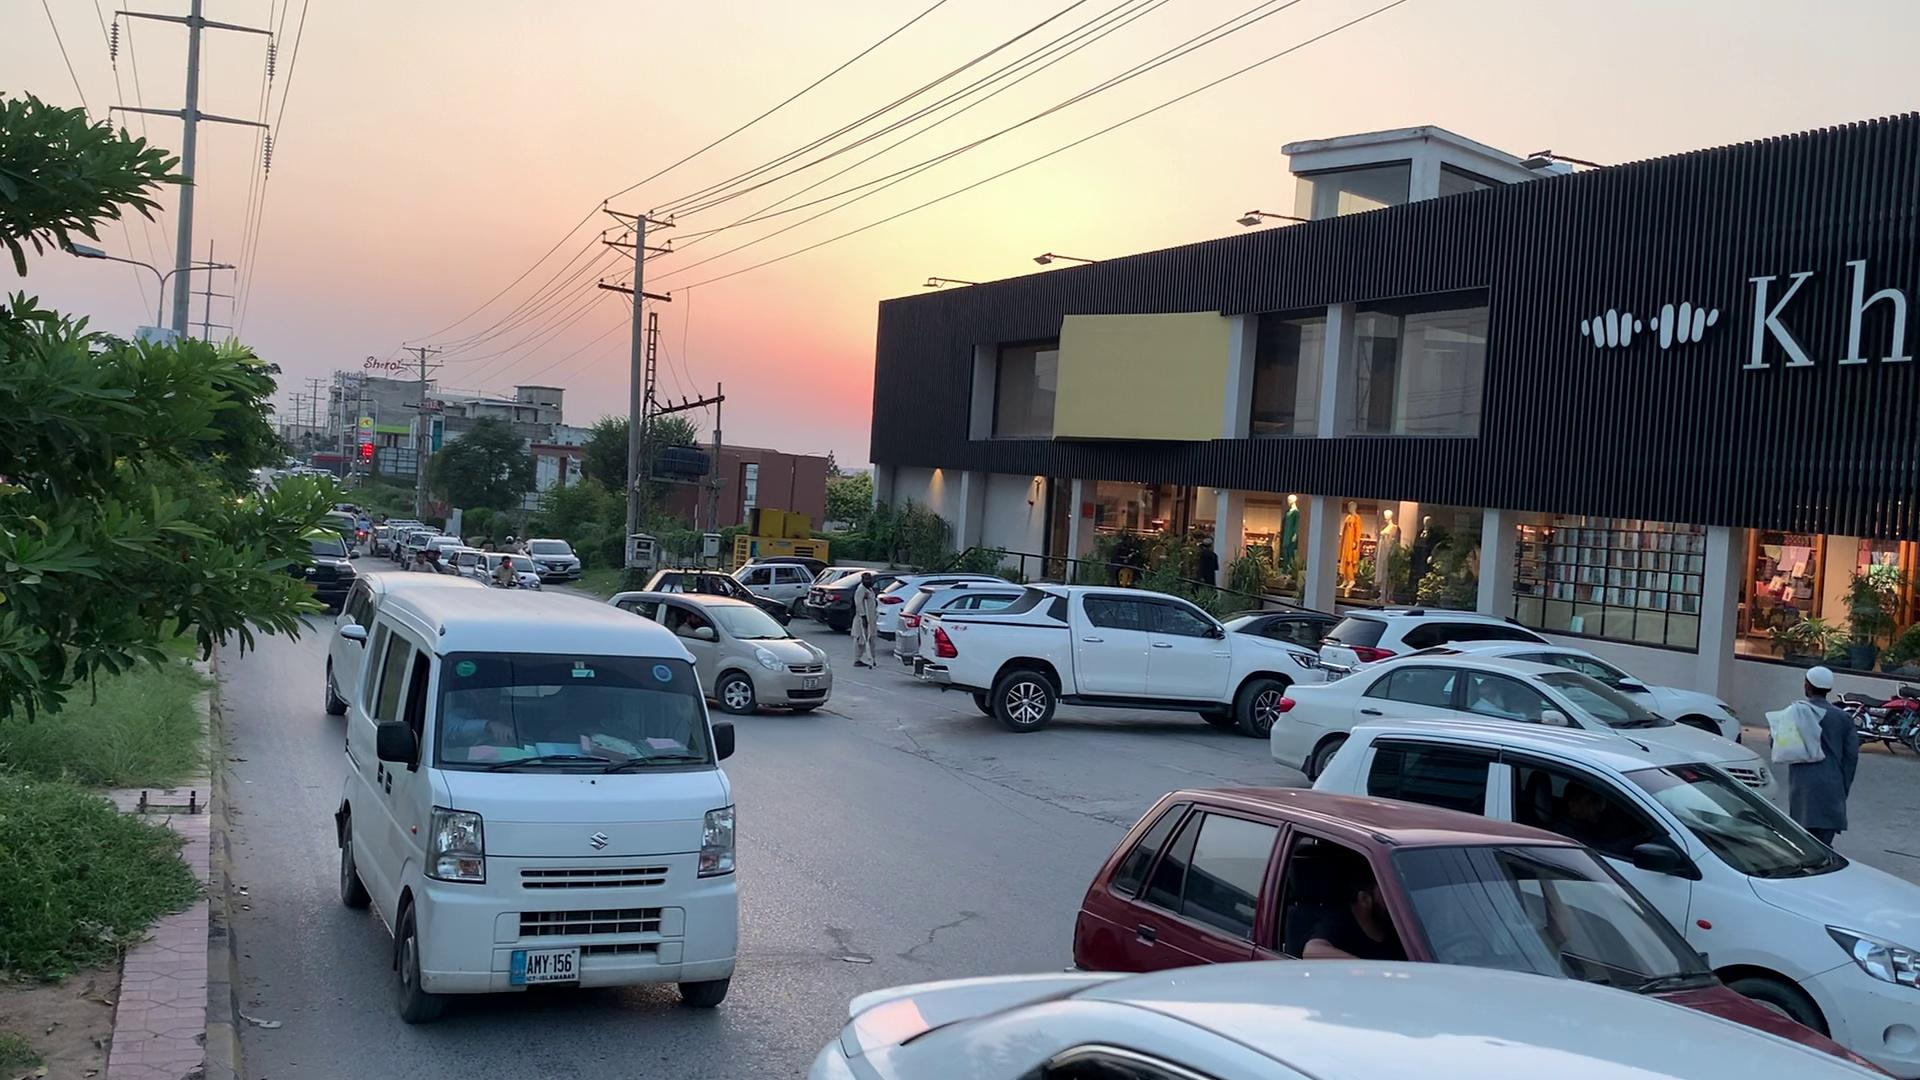windshield: (431, 644, 735, 794)
